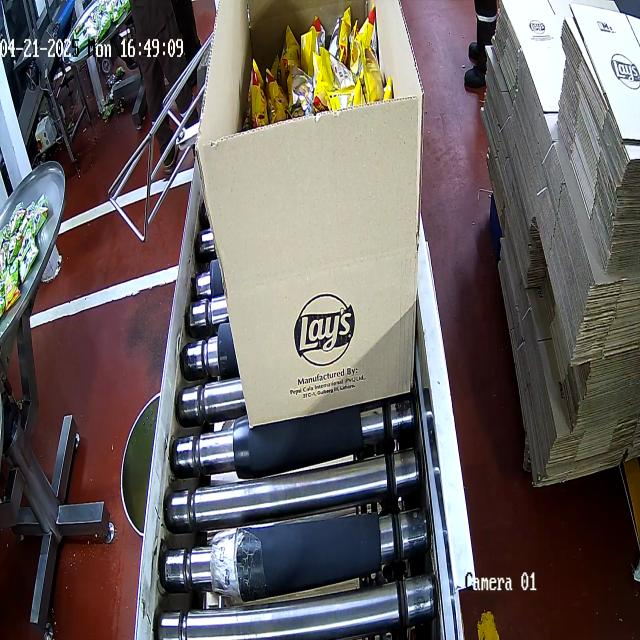SALTED: (235, 0, 396, 123)
